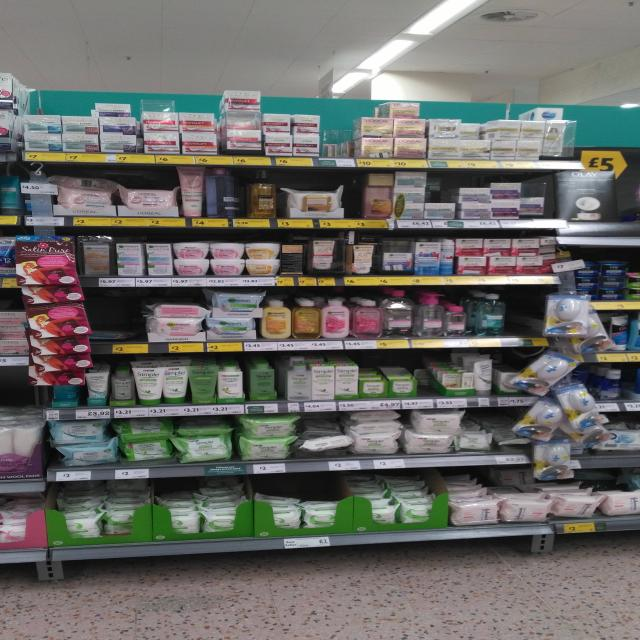void: (90, 288, 144, 355), (324, 98, 357, 172), (508, 285, 542, 349)
